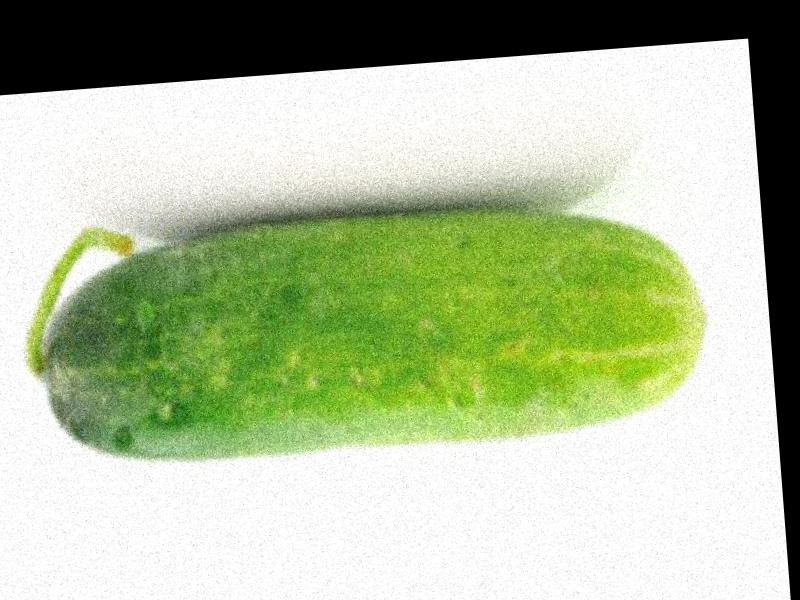Cucumber: (21, 181, 721, 473)
